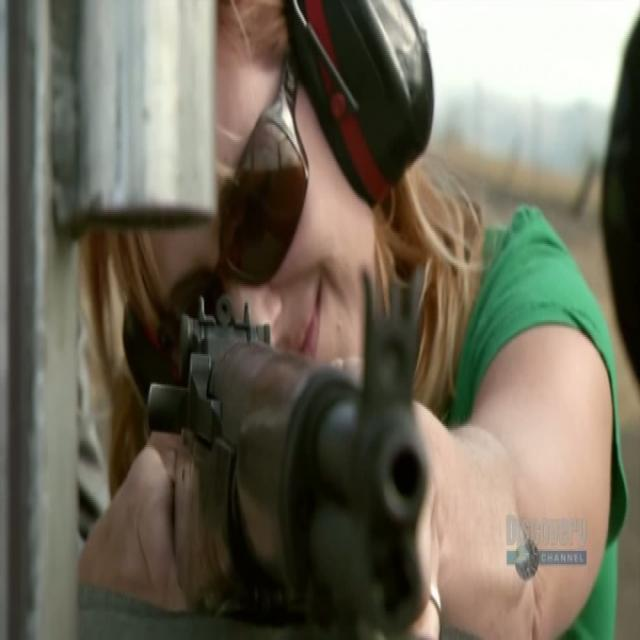rifle: (142, 257, 439, 639)
